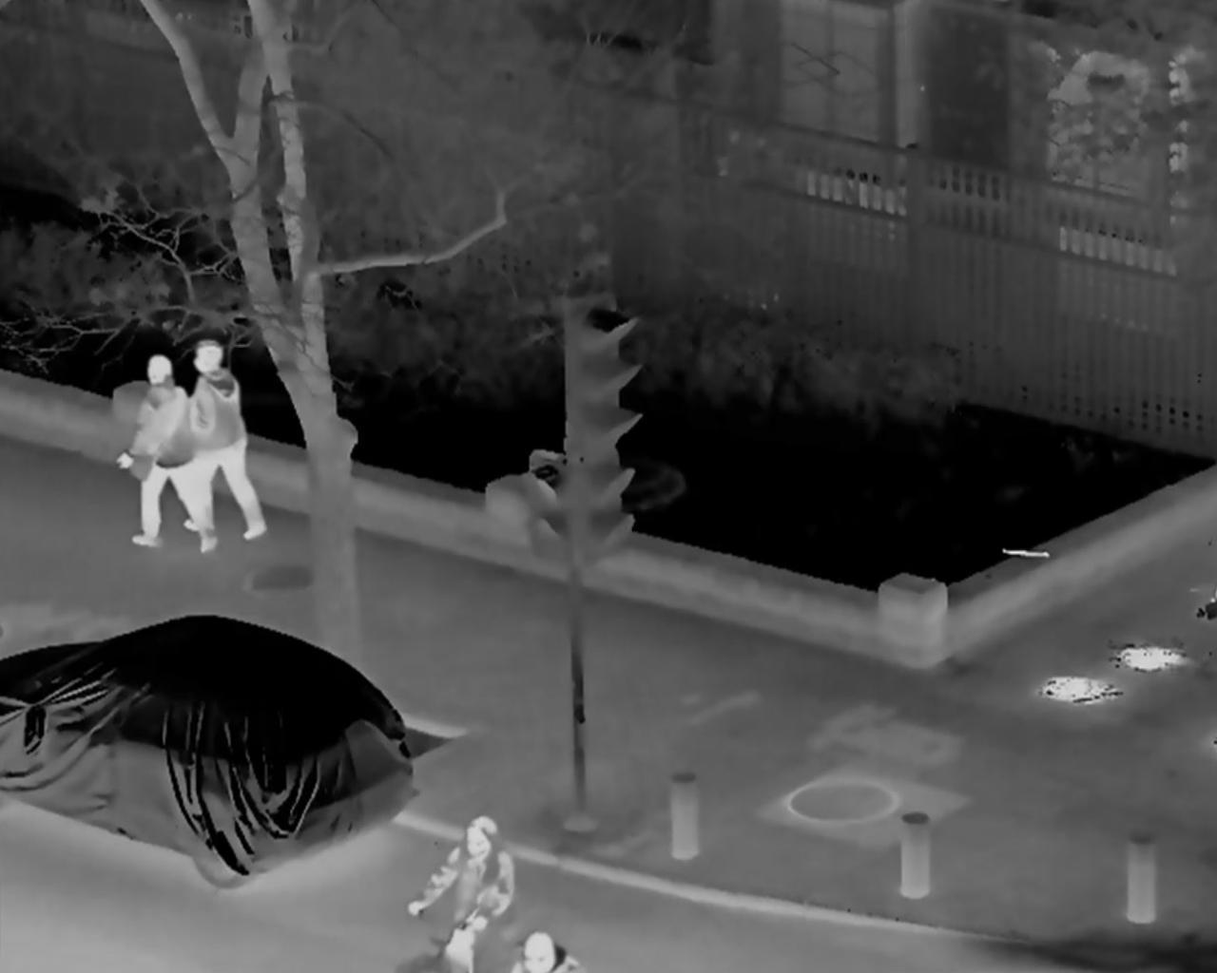person: (113, 353, 216, 552), (178, 341, 267, 539), (406, 817, 512, 973)
